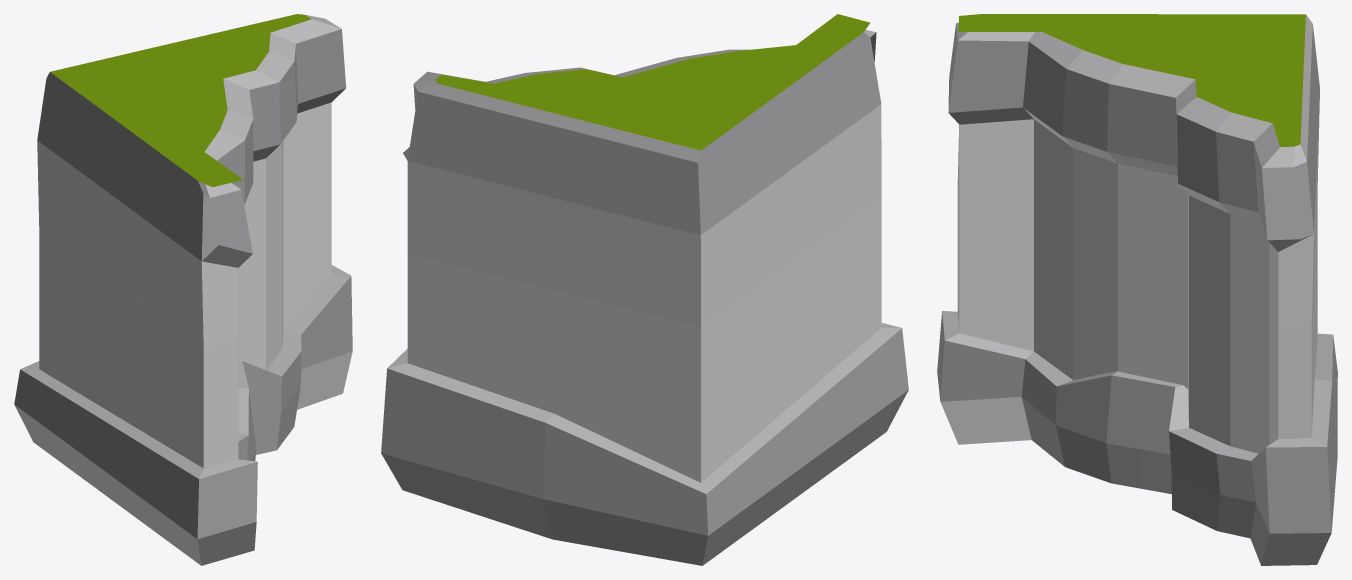
File: CliffCorner2.fbx
3 views of the same model, side by side, from view 1: azimuth 30°, elevation 25°; view 2: azimuth 150°, elevation 25°; view 3: azimuth 270°, elevation 25° (orthographic). The views are drawn at different scales.
Parts seen in each view (by area): view 1: Plane.008; view 2: Plane.008; view 3: Plane.008.
Boxes of the visible parts, x1=… form: Plane.008: x1=14, y1=14, x2=352, y2=565; Plane.008: x1=381, y1=14, x2=908, y2=565; Plane.008: x1=937, y1=14, x2=1337, y2=565.
Size of the model in its own units: 1748 by 2089 by 1809.
